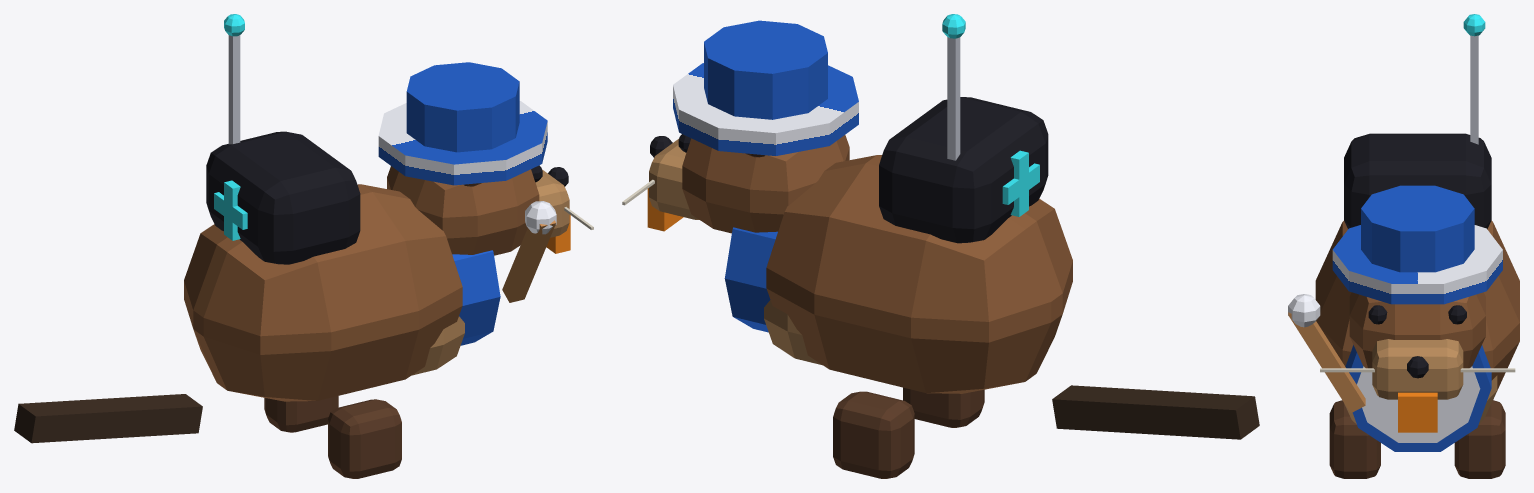
The model's file is dylagne.glb.
3 views of the same model, side by side, from view 1: azimuth 30°, elevation 25°; view 2: azimuth 150°, elevation 25°; view 3: azimuth 270°, elevation 25° (orthographic). The views are drawn at different scales.
Parts seen in each view (by area): view 1: p_rbox.708, p_rbox.712, p_cyl.364, p_rbox.710, p_box.3614, p_cyl.363, p_rbox.706, p_cyl.365, p_rbox.707, p_box.3618, p_box.3621, p_rbox.709 (+4 smaller); view 2: p_rbox.708, p_rbox.712, p_cyl.364, p_rbox.710, p_box.3614, p_cyl.363, p_rbox.707, p_cyl.365, p_rbox.706, p_rbox.711, p_box.3621, p_rbox.709 (+2 smaller); view 3: p_rbox.712, p_cyl.364, p_cyl.363, p_rbox.708, p_rbox.710, p_rbox.711, p_cyl.366, p_rbox.706, p_rbox.707, p_cyl.365, p_box.3618, p_box.3615 (+9 smaller).
Boxes of the visible parts, x1,y1,x2,y2 form: p_rbox.708: (184, 184, 462, 401); p_rbox.712: (206, 131, 360, 264); p_cyl.364: (406, 62, 519, 152); p_rbox.710: (387, 166, 539, 255); p_box.3614: (14, 394, 202, 443); p_cyl.363: (378, 101, 547, 185); p_rbox.706: (328, 399, 401, 478); p_cyl.365: (452, 250, 500, 345); p_rbox.707: (264, 396, 338, 432); p_box.3618: (502, 220, 555, 302); p_box.3621: (228, 35, 240, 144); p_rbox.709: (412, 316, 464, 375); p_rbox.708: (766, 155, 1072, 393); p_rbox.712: (879, 97, 1048, 243); p_cyl.364: (704, 20, 827, 119); p_rbox.710: (682, 135, 849, 233); p_box.3614: (1052, 385, 1259, 439); p_cyl.363: (673, 63, 858, 155); p_rbox.707: (833, 391, 914, 478); p_cyl.365: (724, 227, 777, 332); p_rbox.706: (903, 387, 984, 427); p_rbox.711: (649, 139, 698, 219); p_box.3621: (947, 37, 960, 160); p_rbox.709: (764, 300, 822, 365); p_rbox.712: (1344, 133, 1491, 229); p_cyl.364: (1361, 185, 1474, 272); p_cyl.363: (1332, 225, 1502, 304); p_rbox.708: (1315, 220, 1519, 399); p_rbox.710: (1349, 292, 1485, 368); p_rbox.711: (1372, 339, 1463, 399); p_cyl.366: (1357, 366, 1480, 442); p_rbox.706: (1329, 400, 1380, 478); p_rbox.707: (1454, 400, 1505, 478); p_cyl.365: (1345, 345, 1491, 451); p_box.3618: (1288, 312, 1365, 412); p_box.3615: (1398, 392, 1437, 432).
Bounding box in the file's own units: 1.09 × 0.82 × 0.4085.
Materials: 13 (1 with a texture image).
